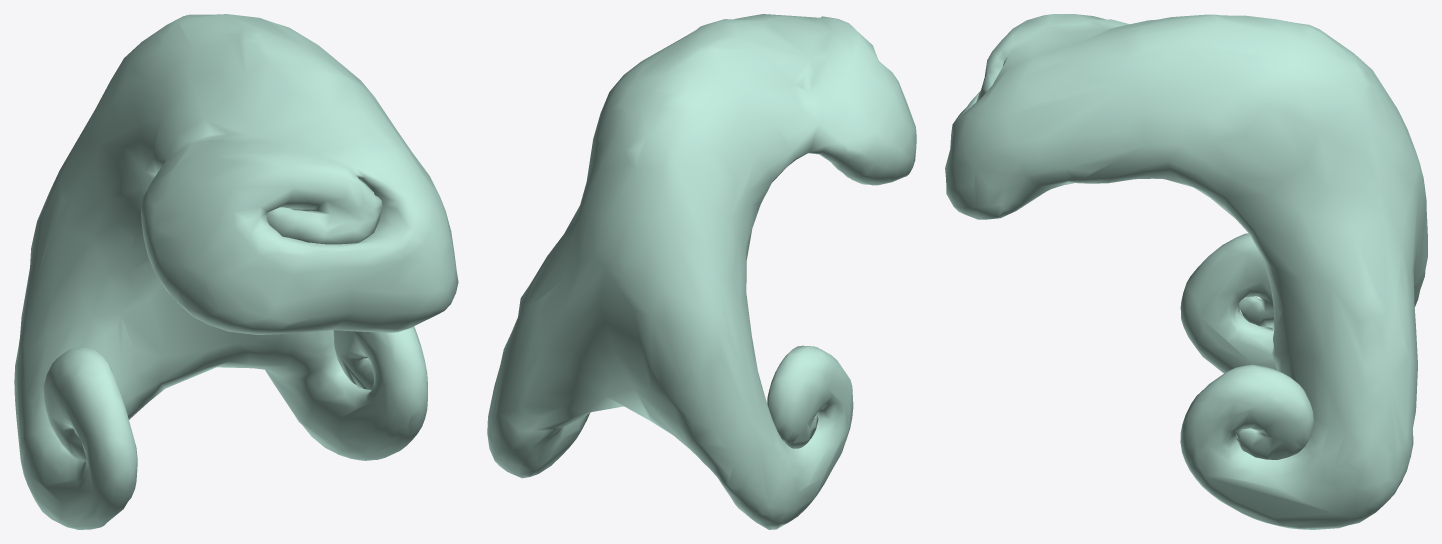
Rendered from Mane_16.fbx.
The picture shows the model from 3 angles, left to right: view 1: azimuth 30°, elevation 25°; view 2: azimuth 150°, elevation 25°; view 3: azimuth 270°, elevation 25°; orthographic projection. The views are drawn at different scales.
Parts seen in each view (by area): view 1: Mane_16; view 2: Mane_16; view 3: Mane_16.
Boxes of the visible parts, bbox=[...] form: Mane_16: bbox=[14, 14, 458, 529]; Mane_16: bbox=[487, 14, 916, 529]; Mane_16: bbox=[945, 14, 1427, 529].
Size of the model in its own units: 1.46 by 2.02 by 1.98.
